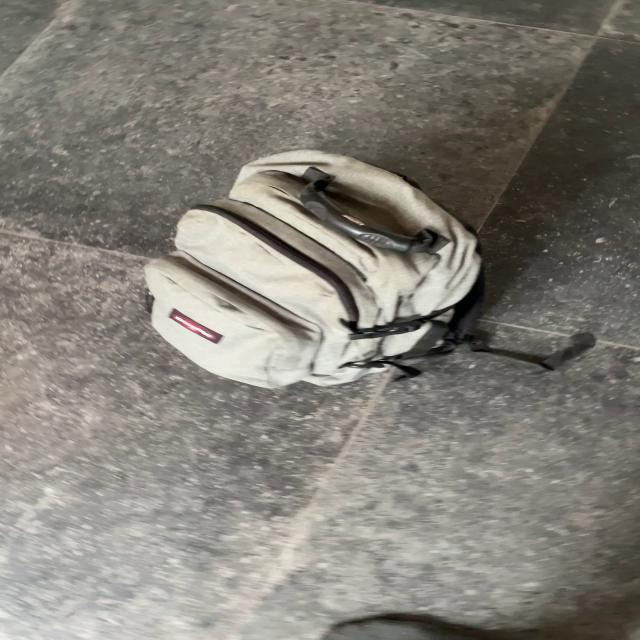backpack: (137, 144, 501, 391)
